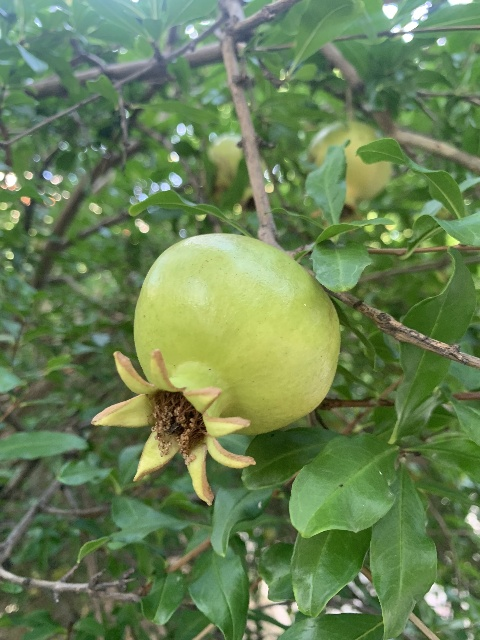mid-growth: (91, 232, 341, 505), (309, 120, 391, 223)
